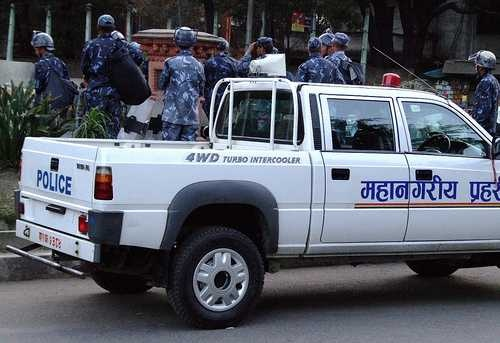Police Van: (12, 72, 500, 330)
